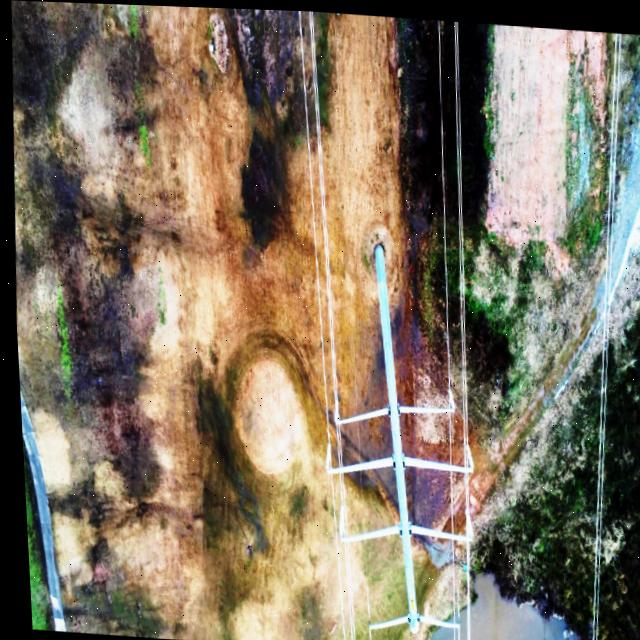poles: (315, 218, 471, 637)
wires: (420, 23, 478, 640), (280, 10, 345, 463), (584, 41, 628, 640)
